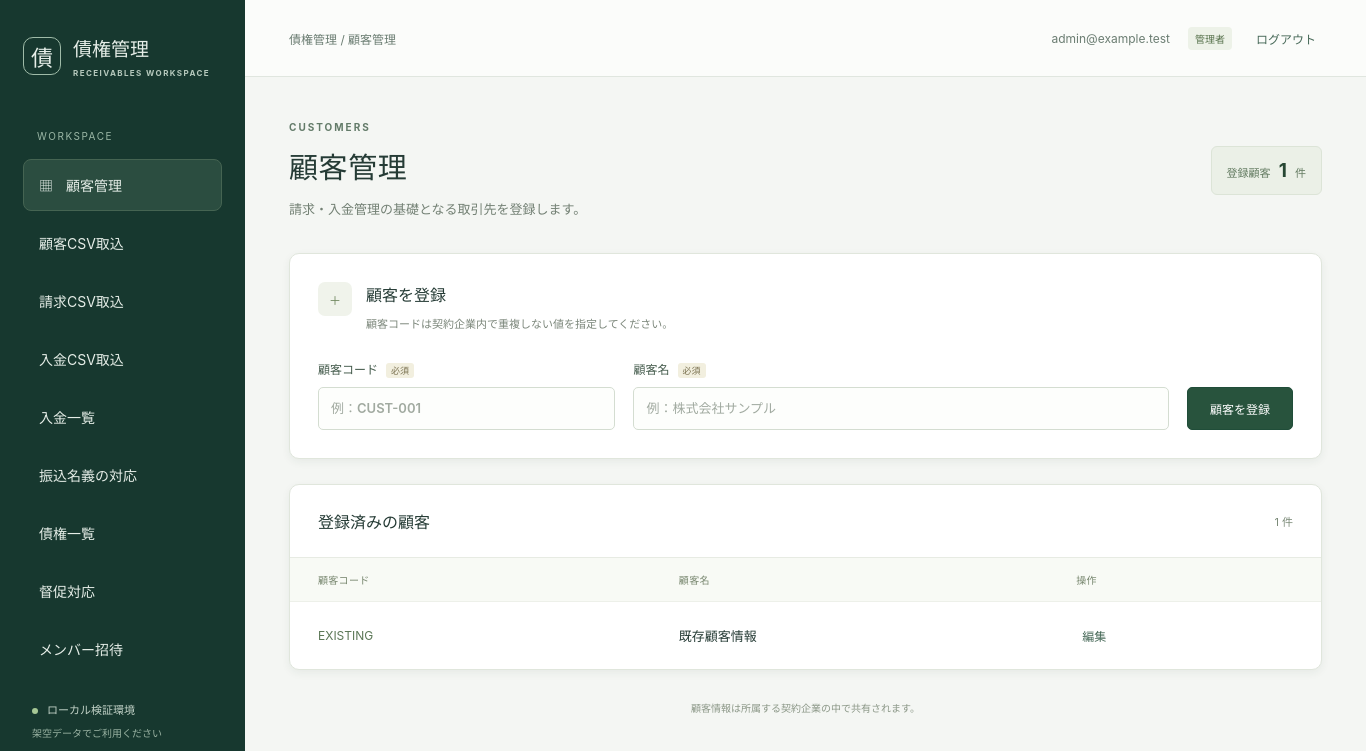
it: Member invitation › does not expose account or tenant information from an issuance conflict
Click the button "メンバー招待" at (122, 649), box [23,623,222,675]
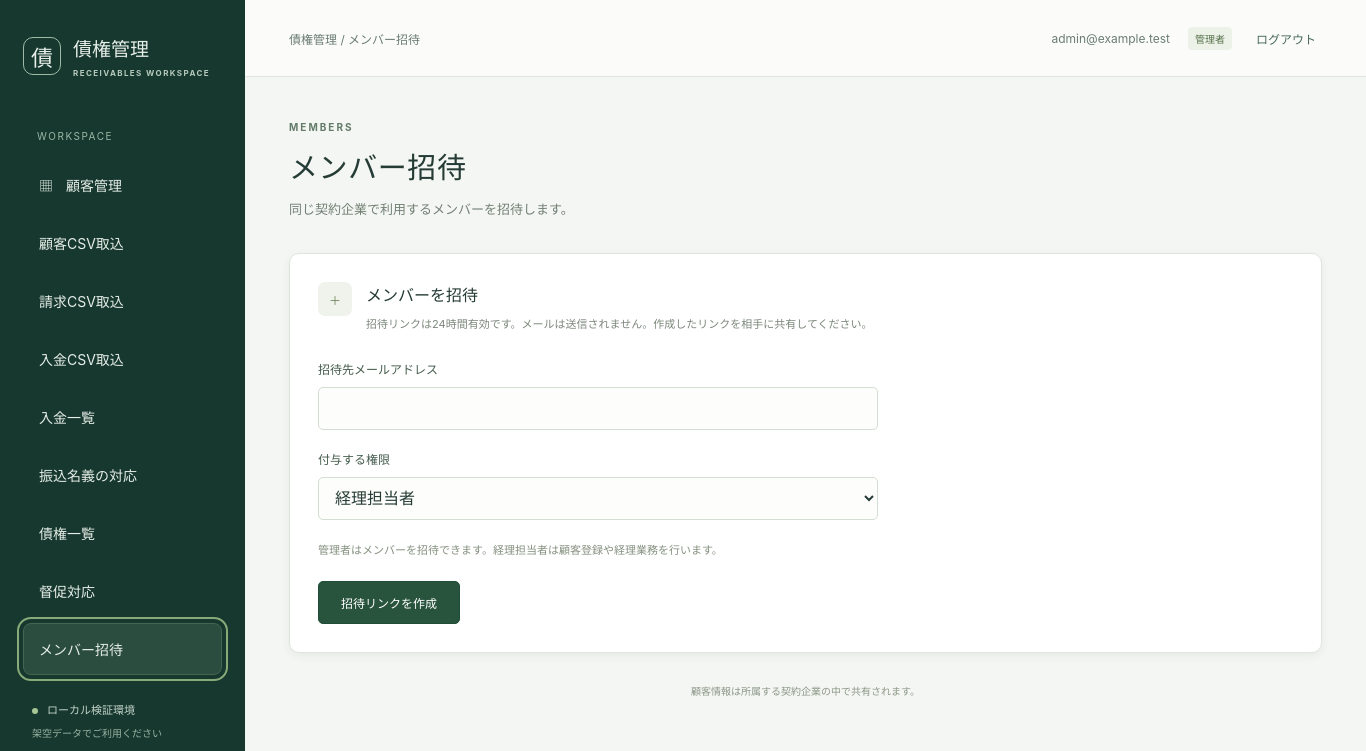
Type "new@example.test" into the field labelled "招待先メールアドレス" at (598, 408), box [318,387,878,430]
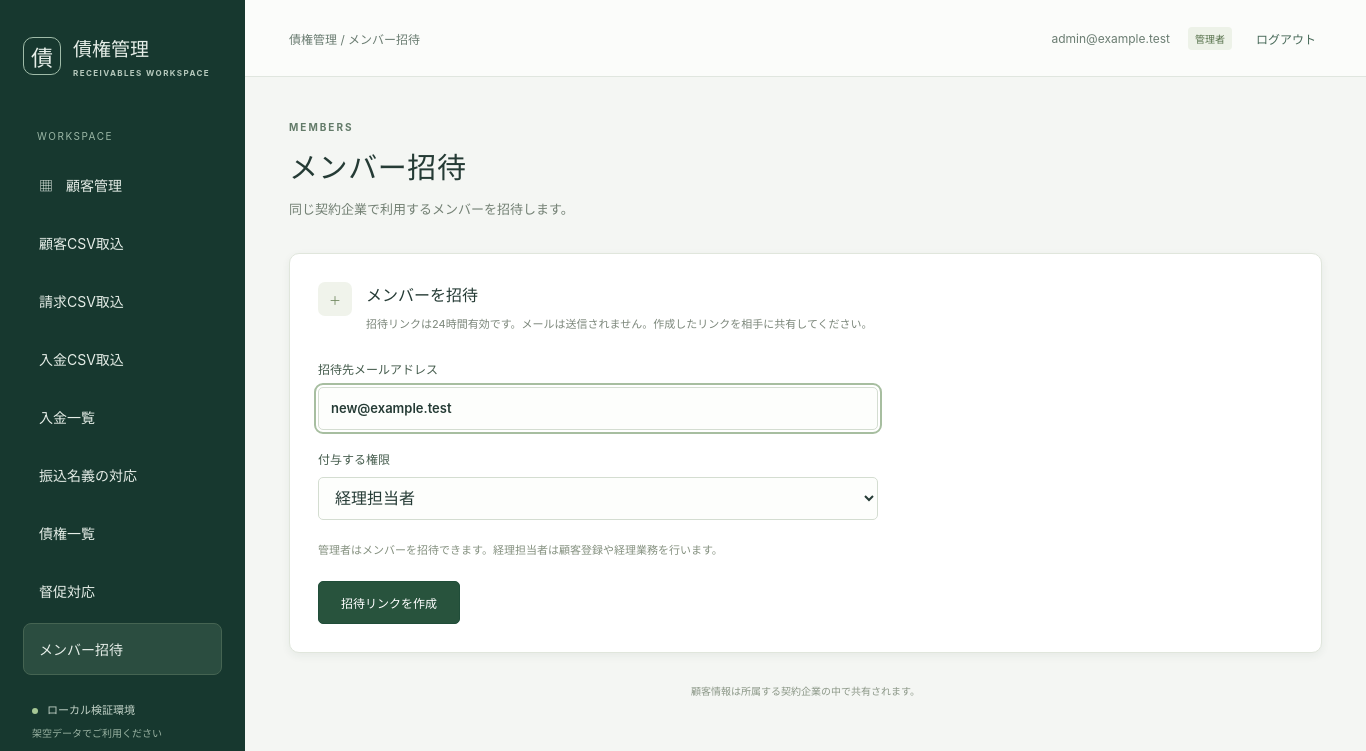
Click the button "招待リンクを作成" at (389, 602), box [318,581,460,624]
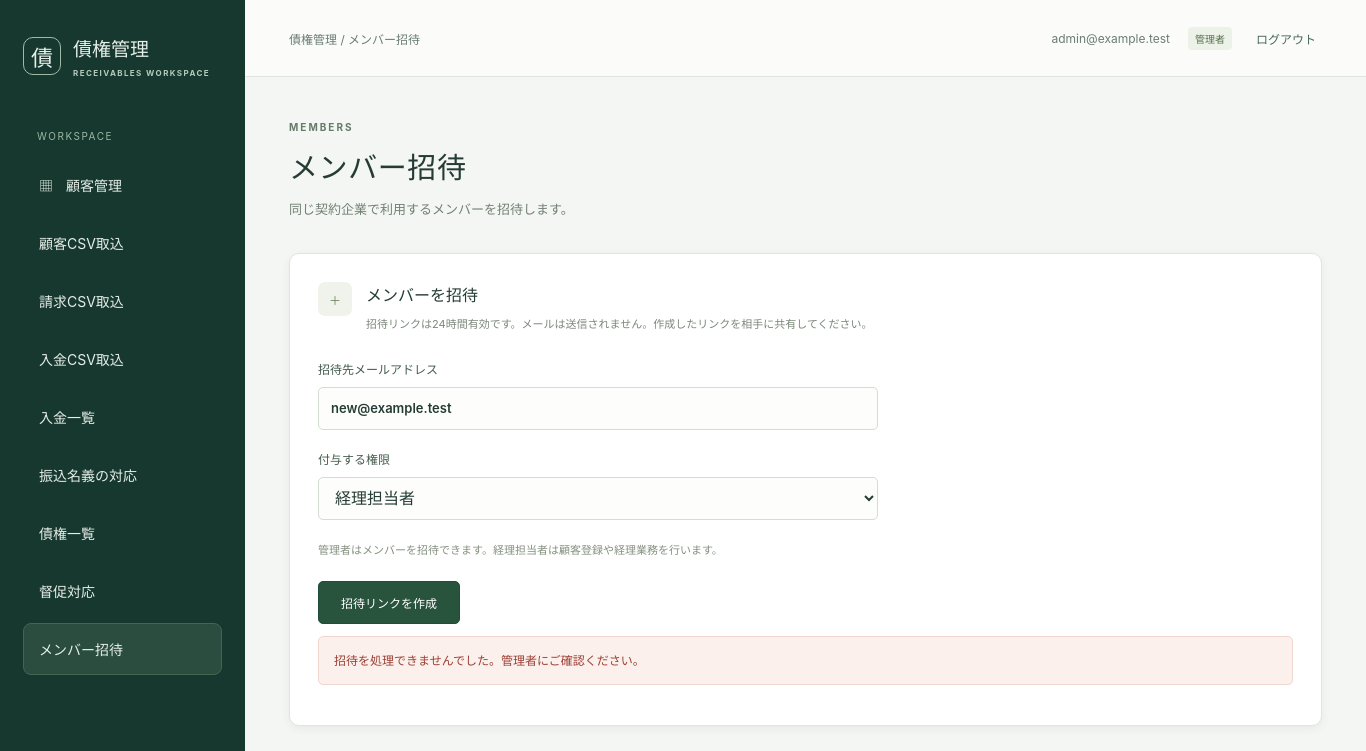
Expected: the message shows "招待を処理できませんでした", [334,653,645,668]
